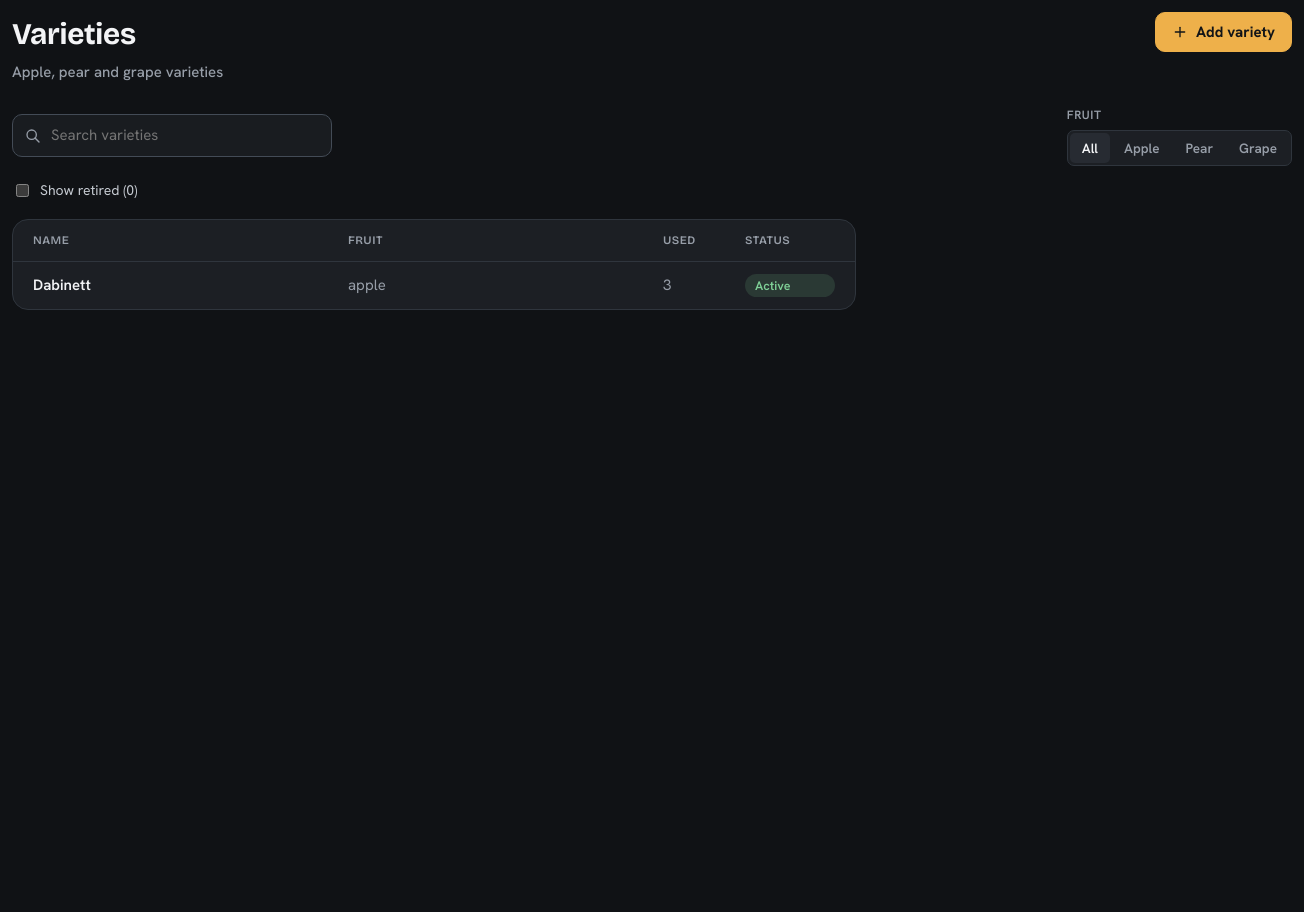
Test: ManagementList › keeps delete disabled for an item that is in use
Click the text "Dabinett" at (62, 285), box [33,275,91,295]
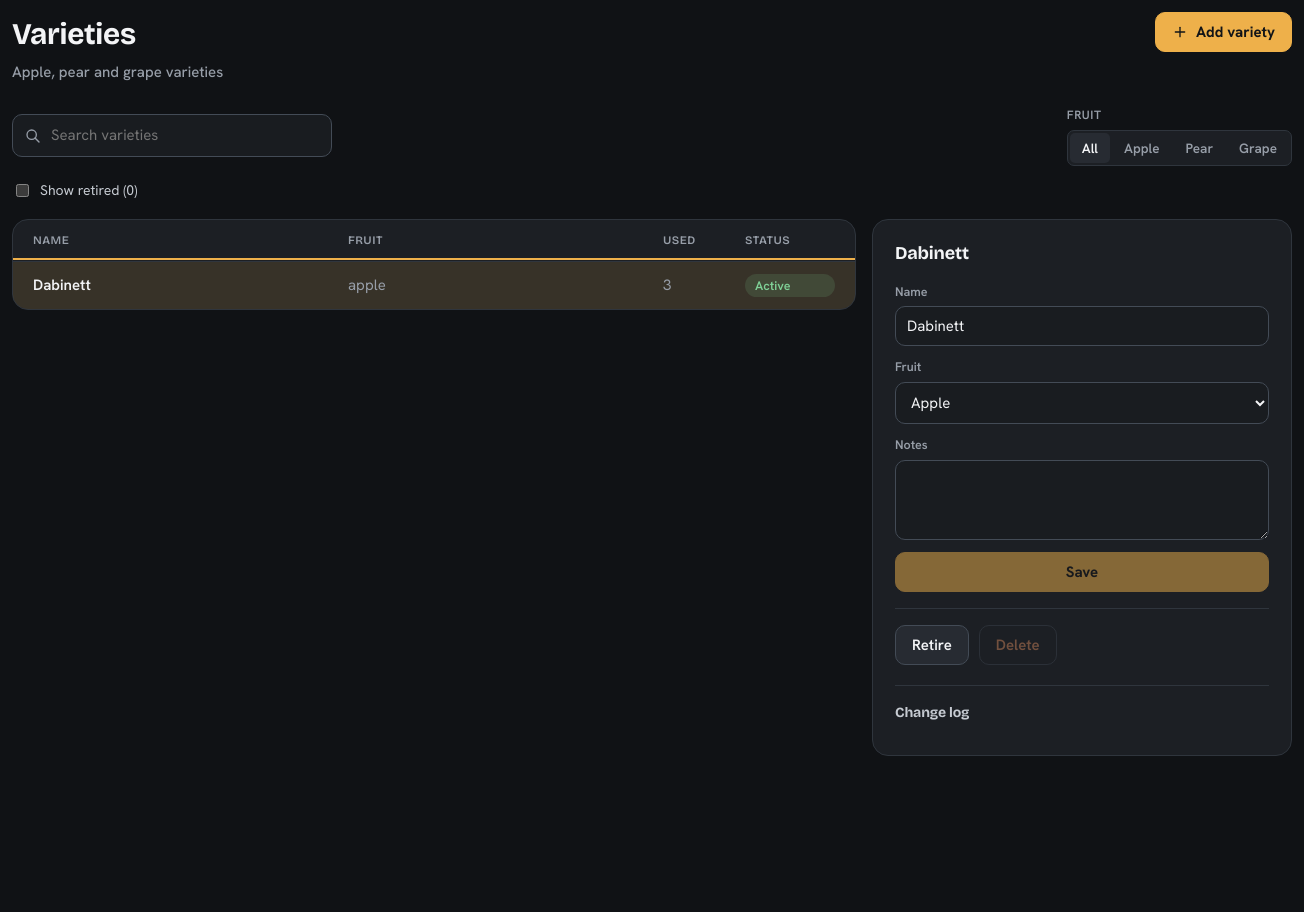
Expected: the button "Delete" is disabled, [979,625,1057,665]
